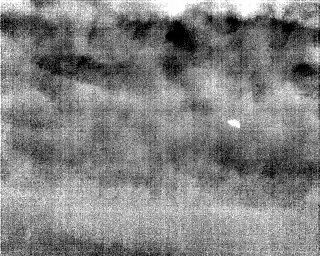BIRD: (226, 117, 243, 131)
